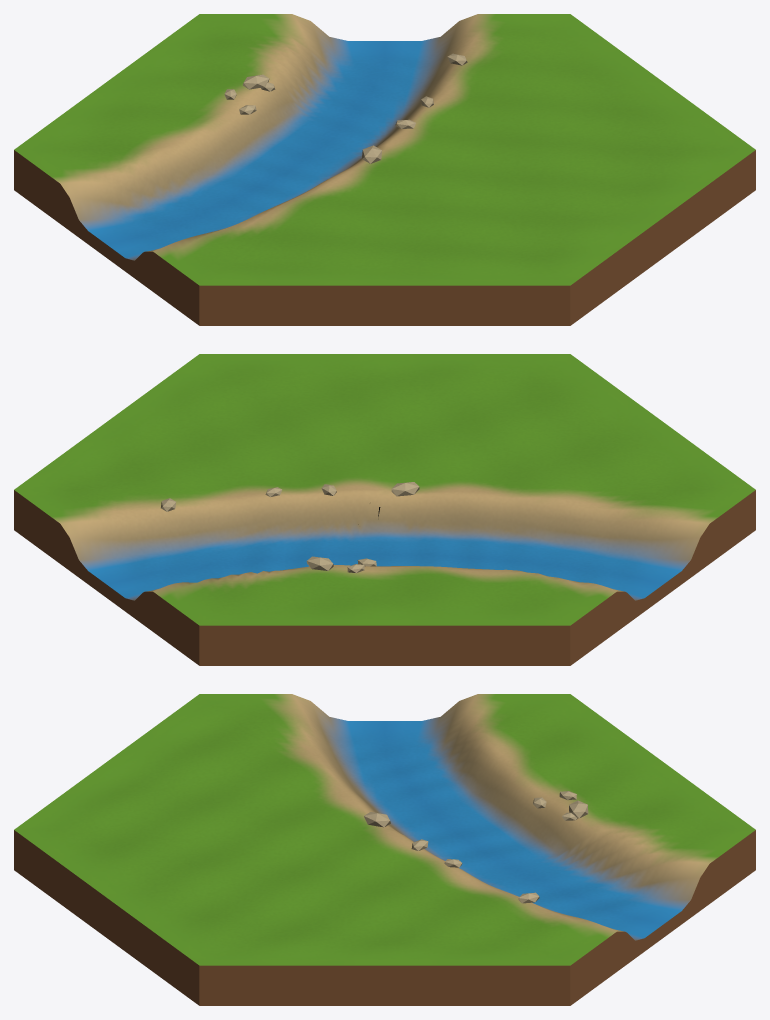
File: SM_Agua_RioCurva_LOD0.fbx
The picture shows the model from 3 angles, top to bottom: view 1: azimuth 30°, elevation 25°; view 2: azimuth 150°, elevation 25°; view 3: azimuth 270°, elevation 25°; orthographic projection.
Visible parts, largest first — view 1: SM_Agua_RioCurva_LOD0; view 2: SM_Agua_RioCurva_LOD0; view 3: SM_Agua_RioCurva_LOD0.
Boxes of the visible parts, box(x1,y1,x2,y2) form: SM_Agua_RioCurva_LOD0: box(14, 14, 755, 325); SM_Agua_RioCurva_LOD0: box(14, 354, 755, 665); SM_Agua_RioCurva_LOD0: box(14, 694, 755, 1005).
Size of the model in its own units: 1.73 by 0.1522 by 2.
Materials: 1 (1 with a texture image).
